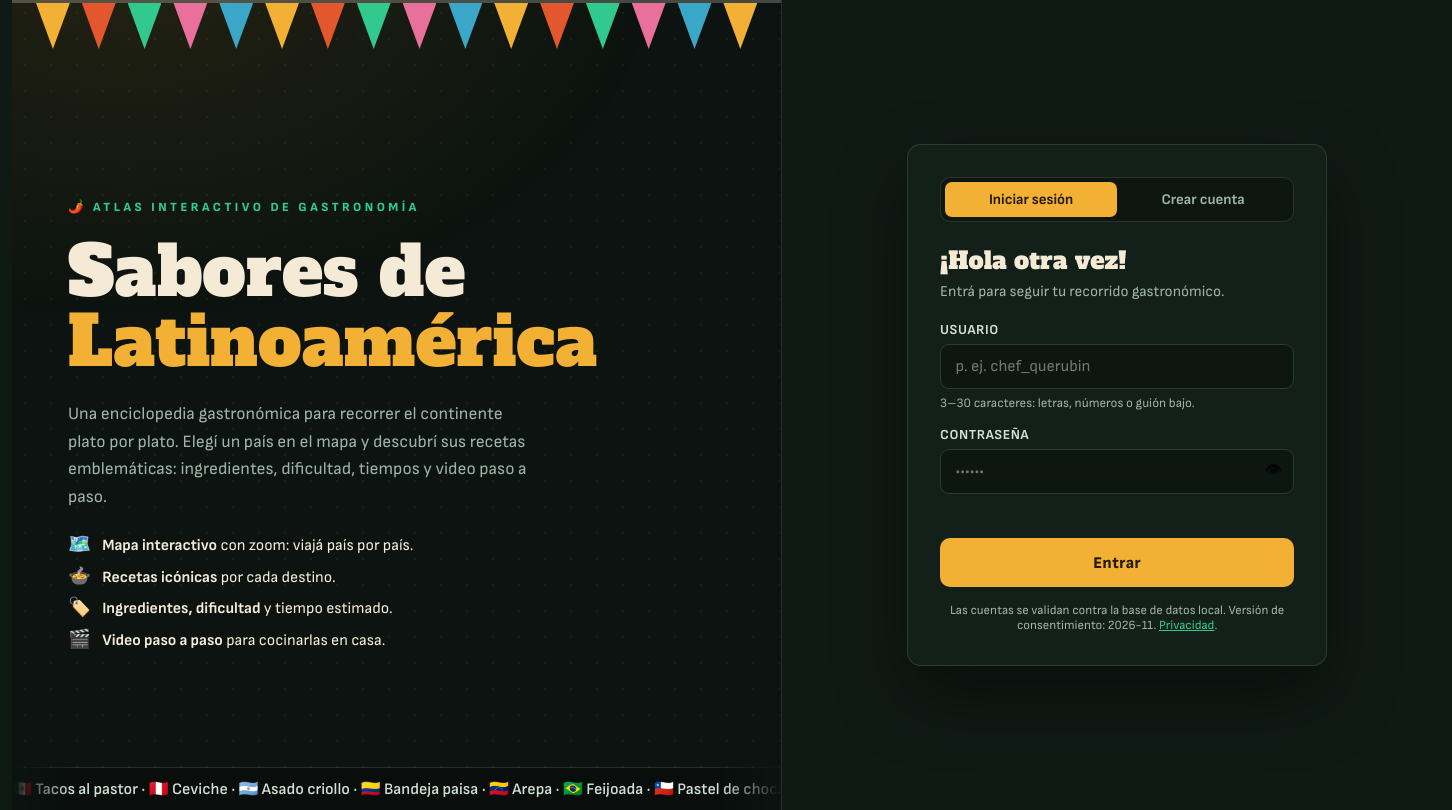
pantalla de auth › muestra el error de credenciales del servidor
Type "nueva_persona" into the field labelled "Usuario" at (1117, 366), box [940,344,1294,389]
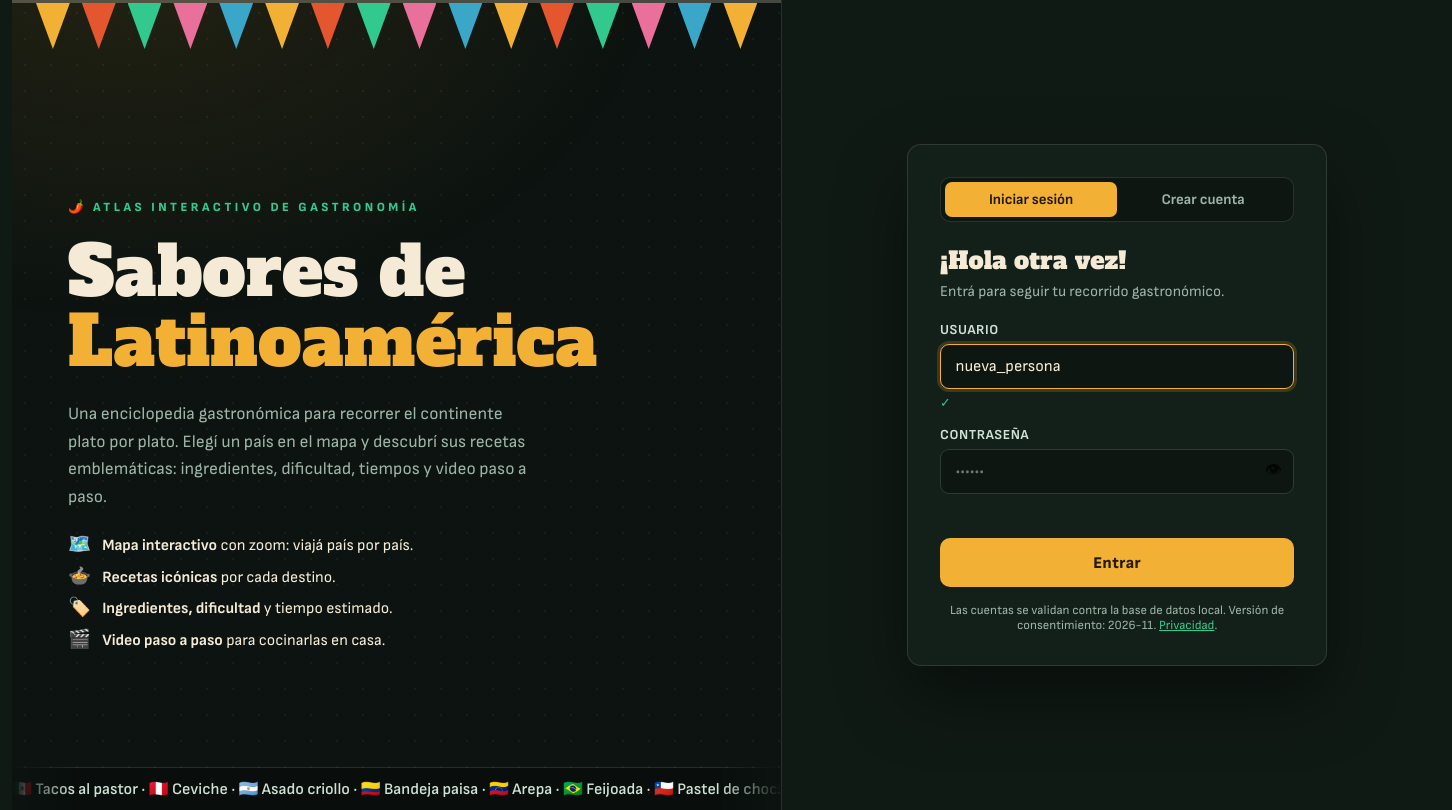
Type "Prueba12345" into the password field labelled "Contraseña" at (1117, 471), box [940,449,1294,494]
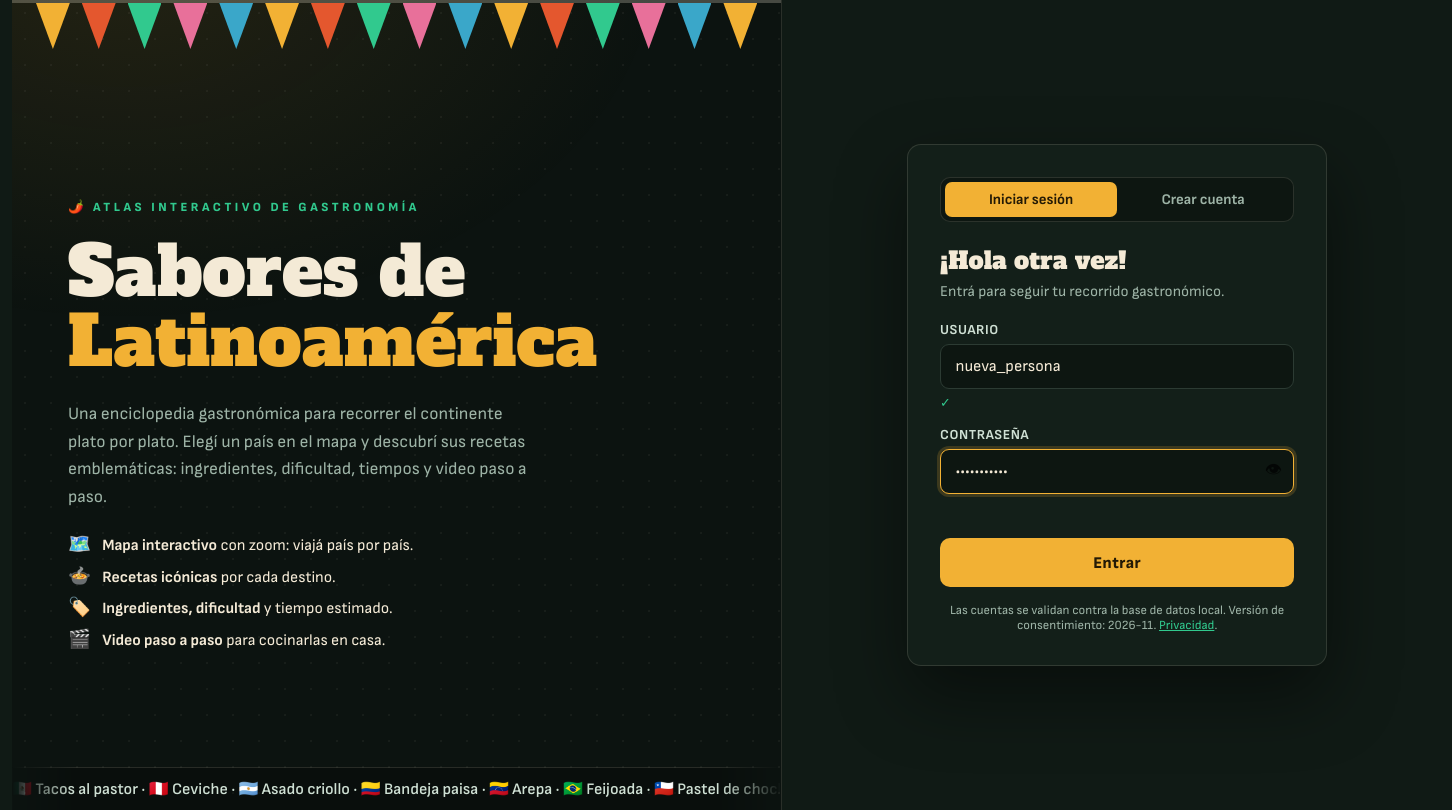
Click the button "Entrar" at (1117, 563), box [940,538,1294,587]
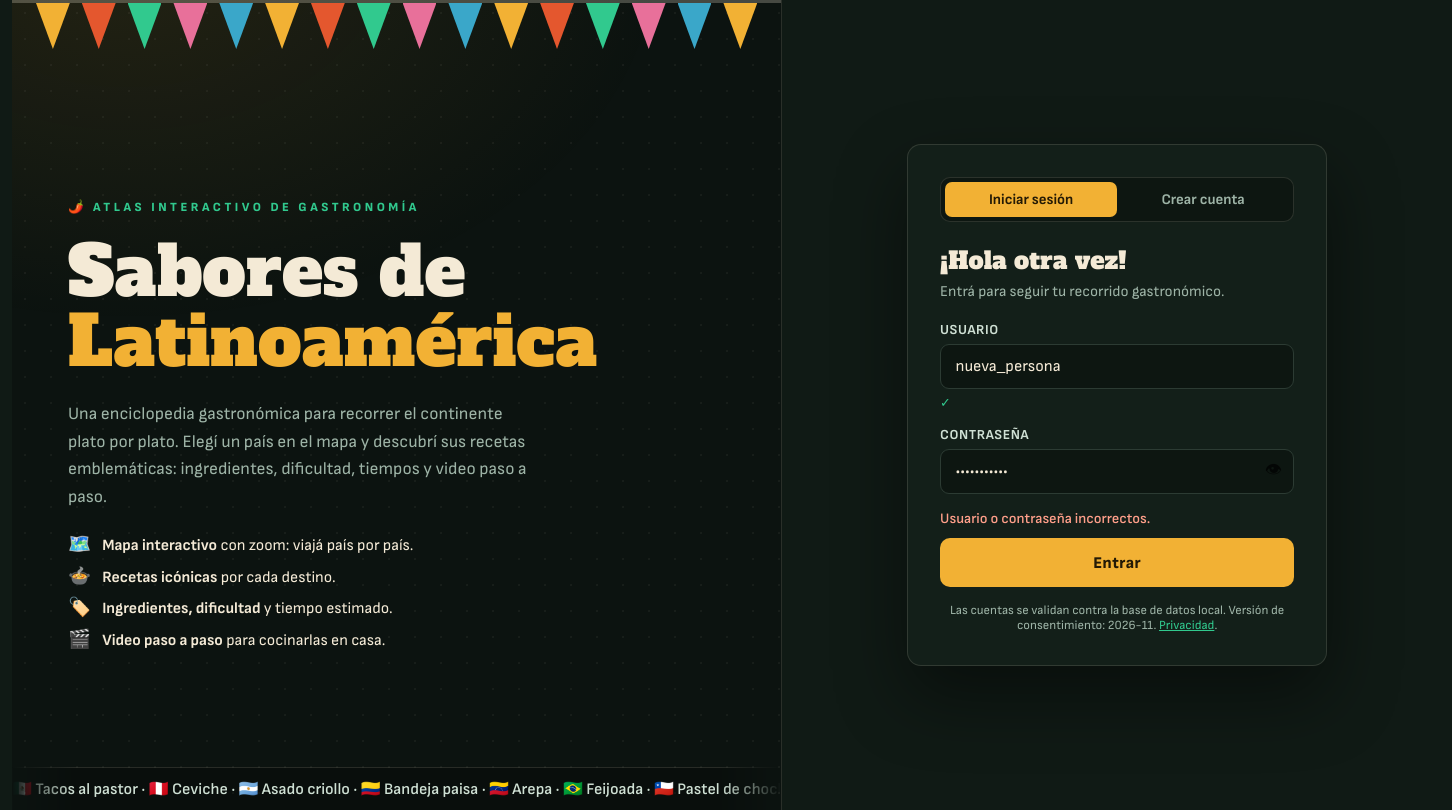
Now the text "Usuario o contraseña incorrectos." is shown, box [940,510,1150,527]
